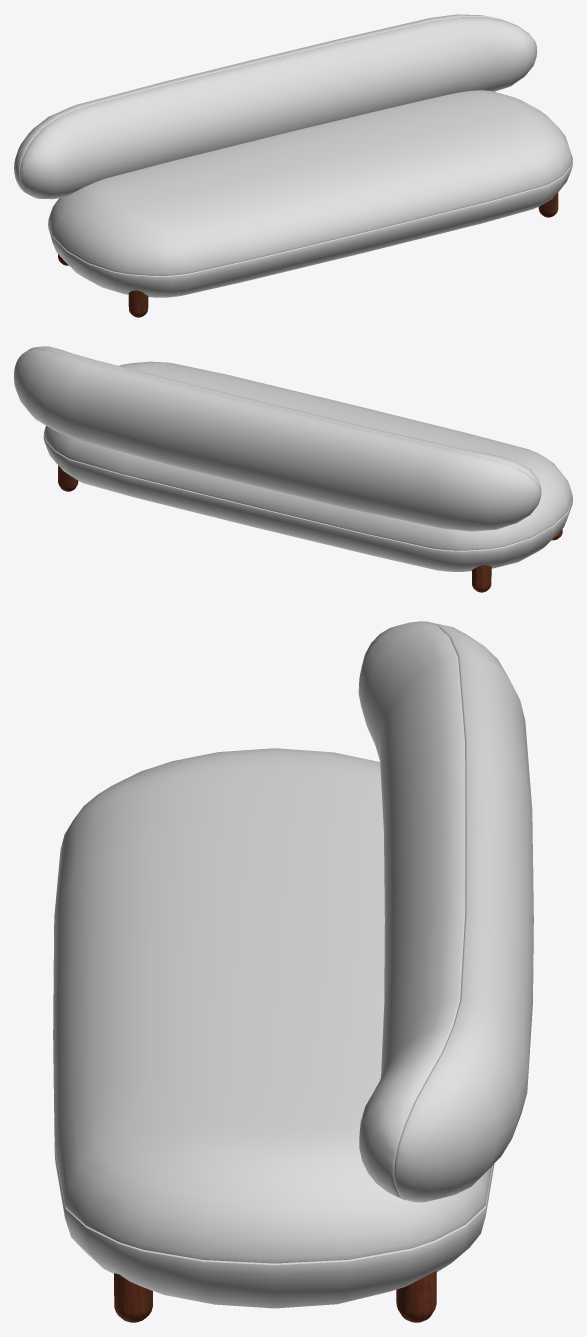
The model's file is greencurdoroy_wood-transformed.glb.
3 views of the same model, one above another, from view 1: azimuth 30°, elevation 25°; view 2: azimuth 150°, elevation 25°; view 3: azimuth 270°, elevation 25° (orthographic). The views are drawn at different scales.
Parts seen in each view (by area): view 1: Divano_3; view 2: Divano_3; view 3: Divano_3.
Boxes of the visible parts, x1,y1,x2,y2 form: Divano_3: (14,14,572,317); Divano_3: (14,346,572,592); Divano_3: (53,621,533,1322).
Size of the model in its own units: 2.97 by 0.792 by 1.19.
2 materials, 1 textured.
